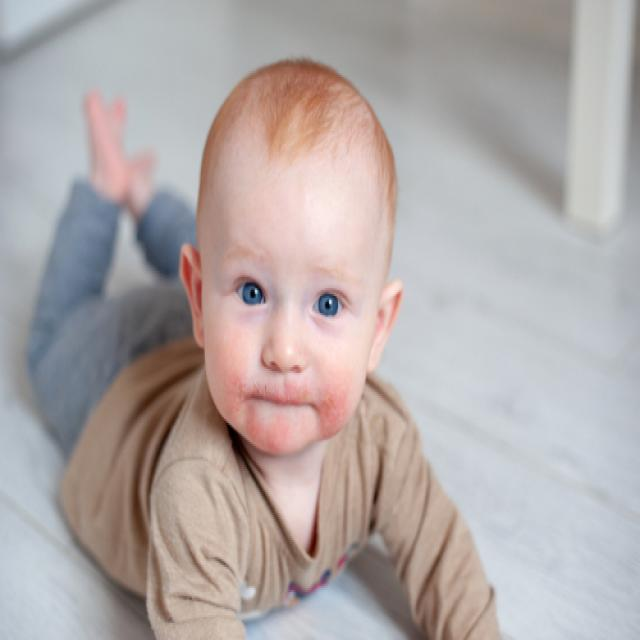eczema: (226, 373, 278, 449), (242, 382, 308, 402), (316, 389, 345, 430)
